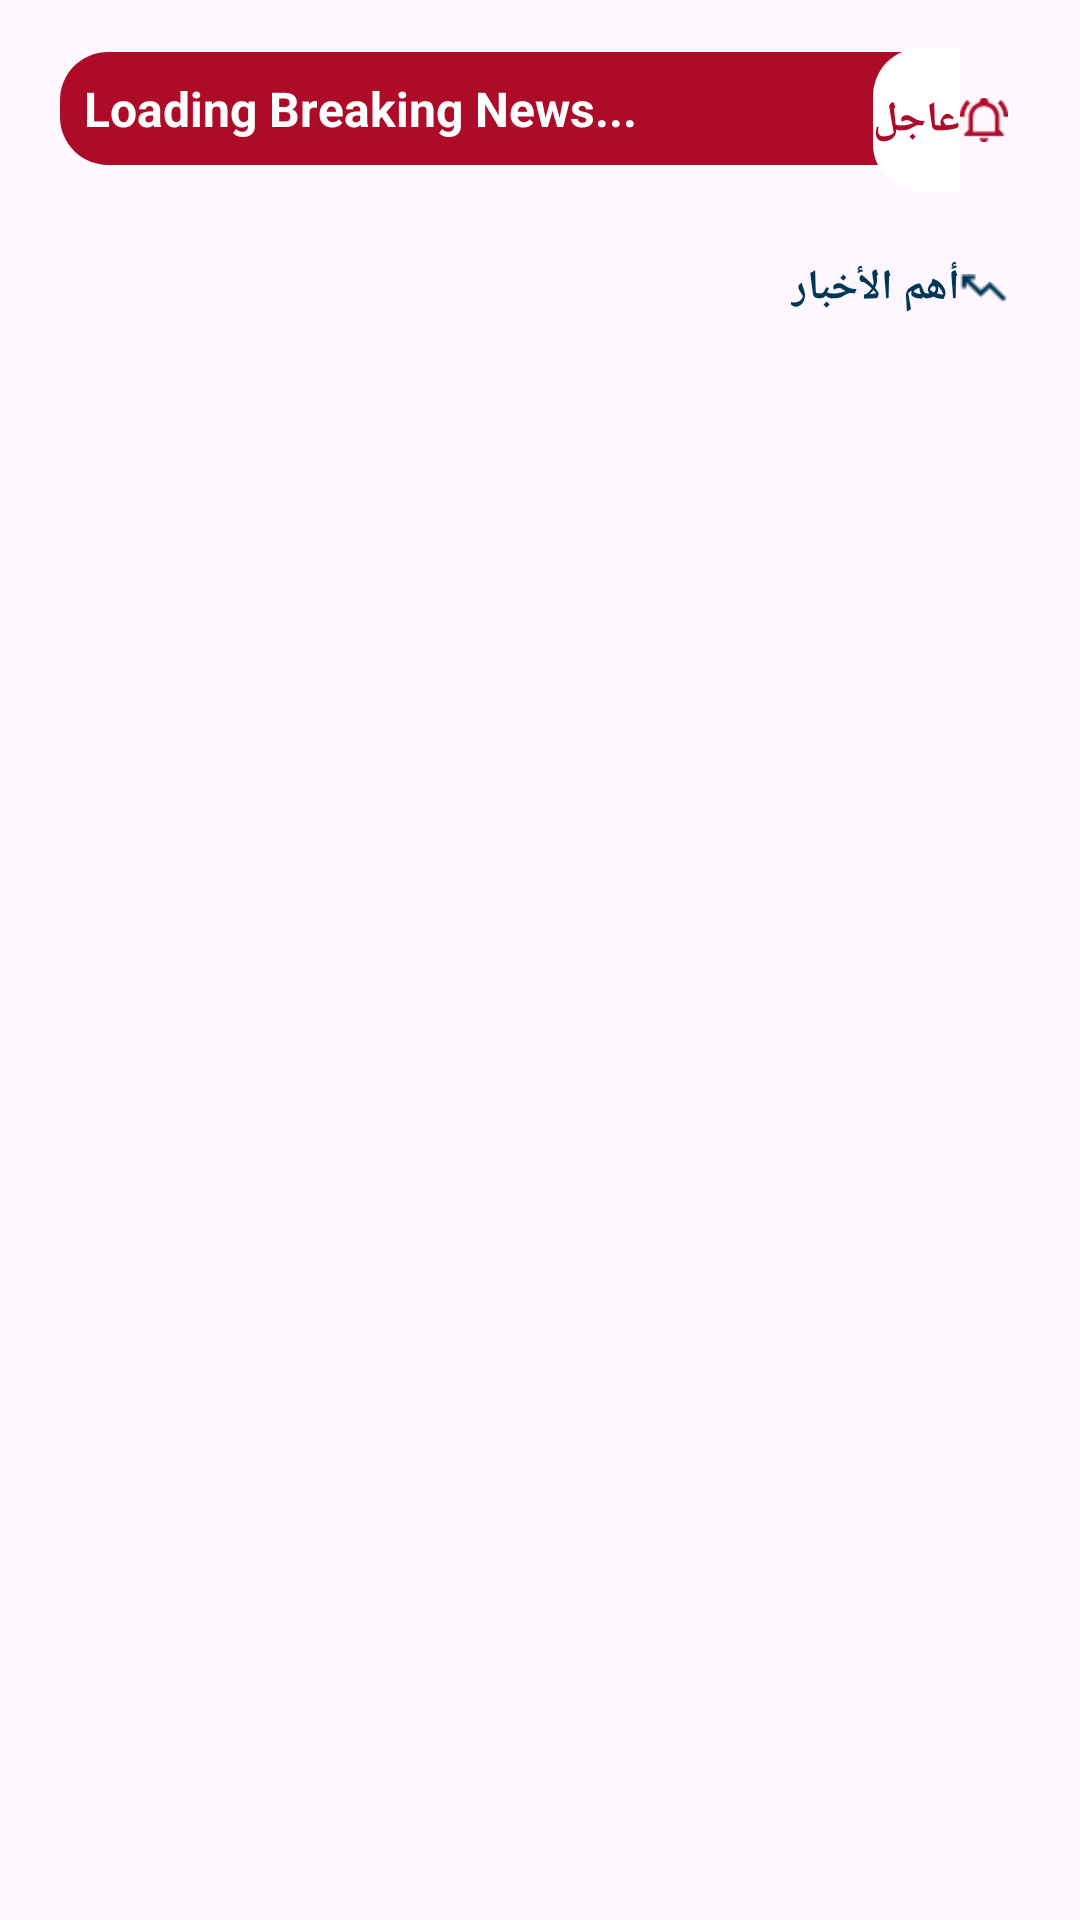

Where to tap for icons on this 1080×1920 app screen, as (x,y):
alert: (984,120)
